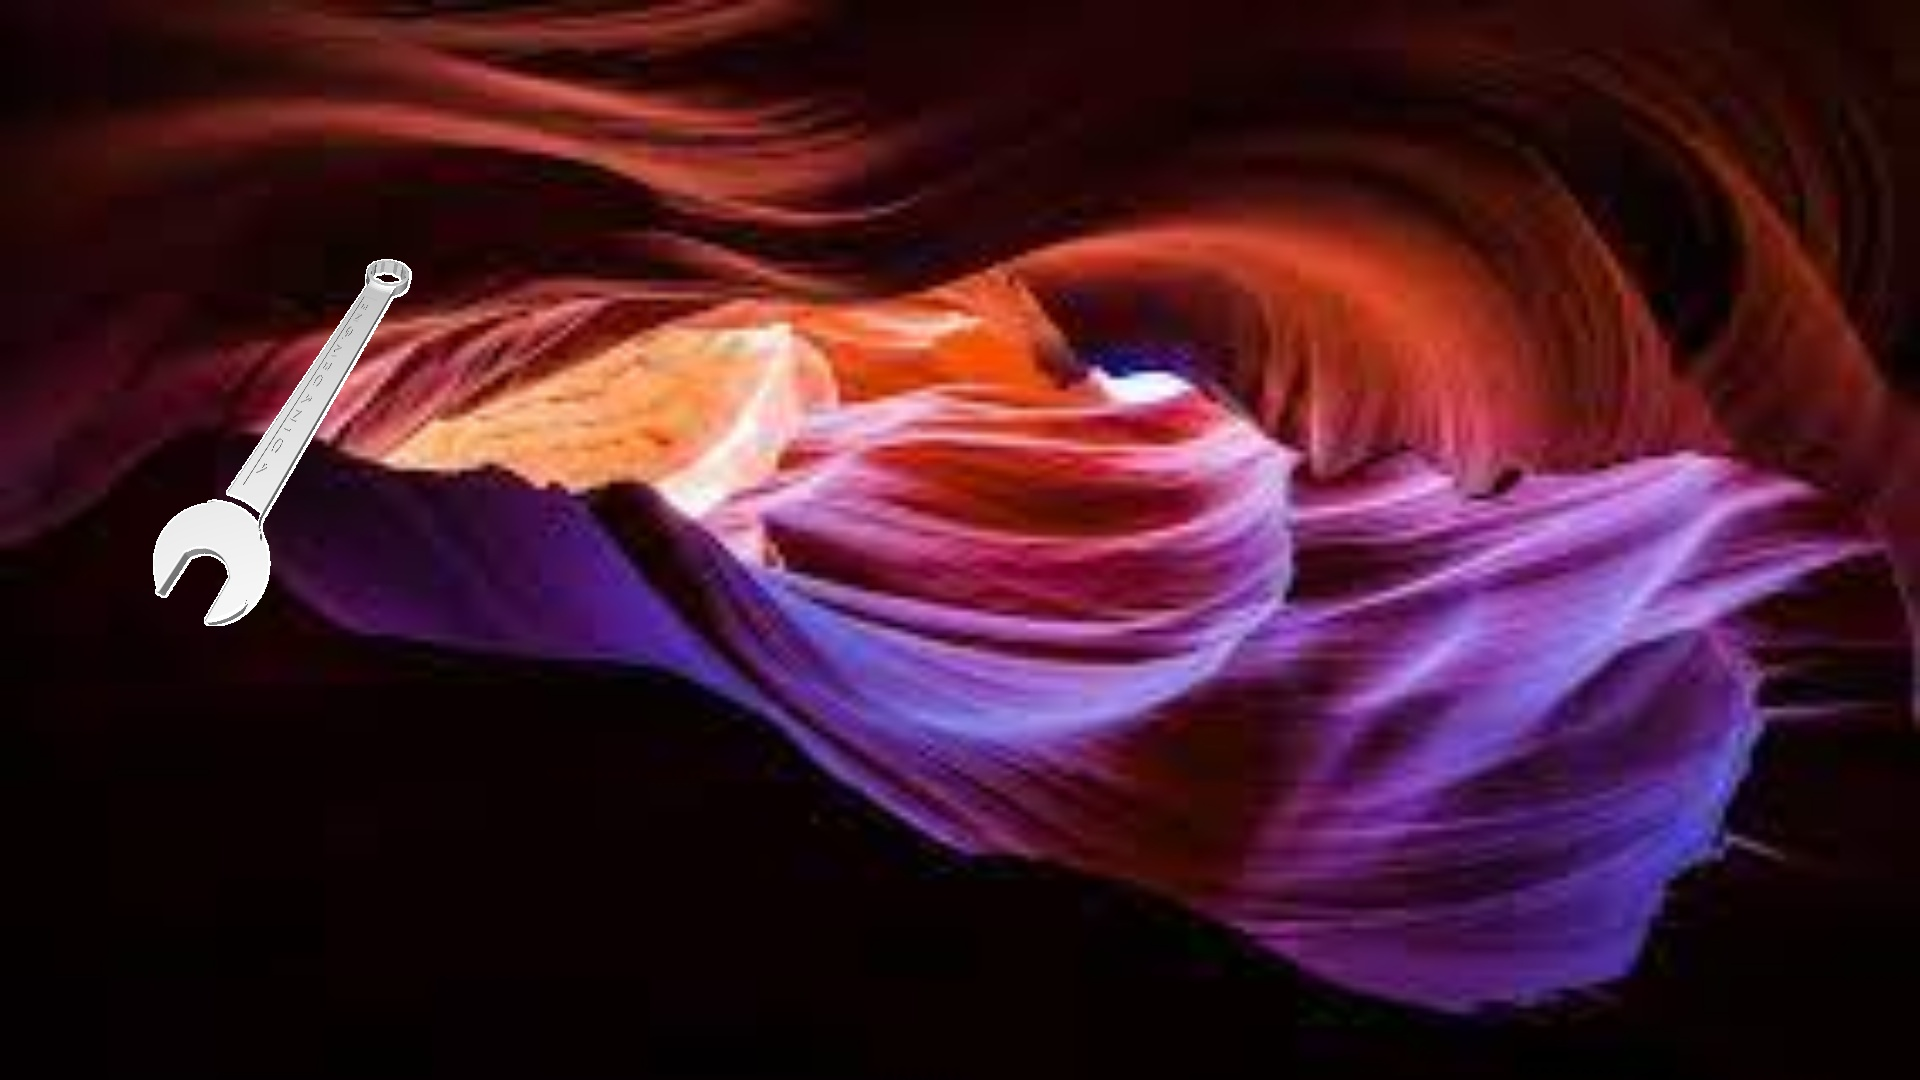Mixed Key: (153, 258, 411, 625)
